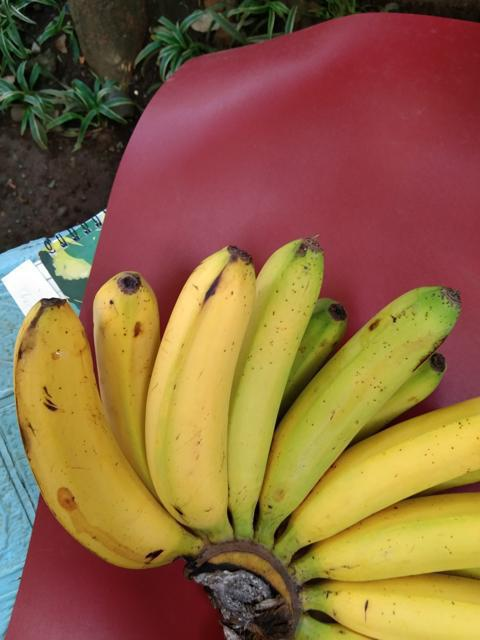freshripe: (5, 293, 174, 576), (214, 229, 333, 527), (293, 389, 479, 546), (327, 480, 479, 583), (302, 568, 479, 639)
ripe: (261, 279, 457, 526), (139, 240, 258, 538), (88, 263, 169, 468)
